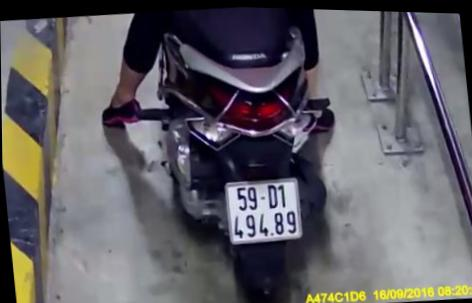LP: (222, 171, 303, 244)
